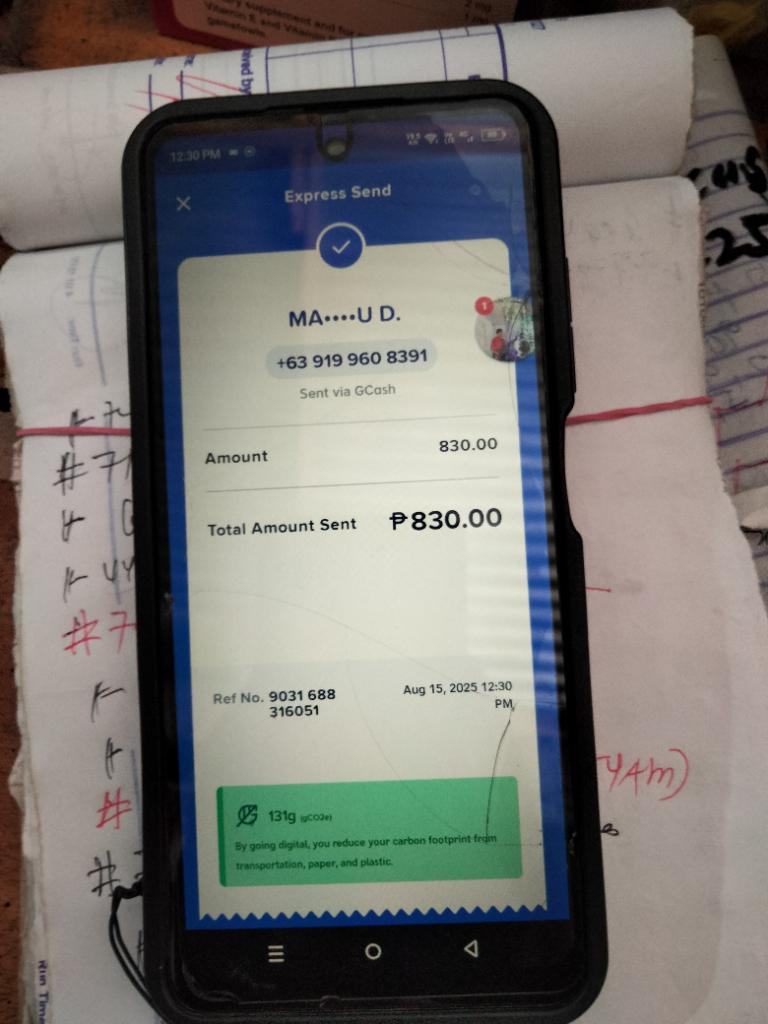Receipt: (160, 158, 566, 921)
